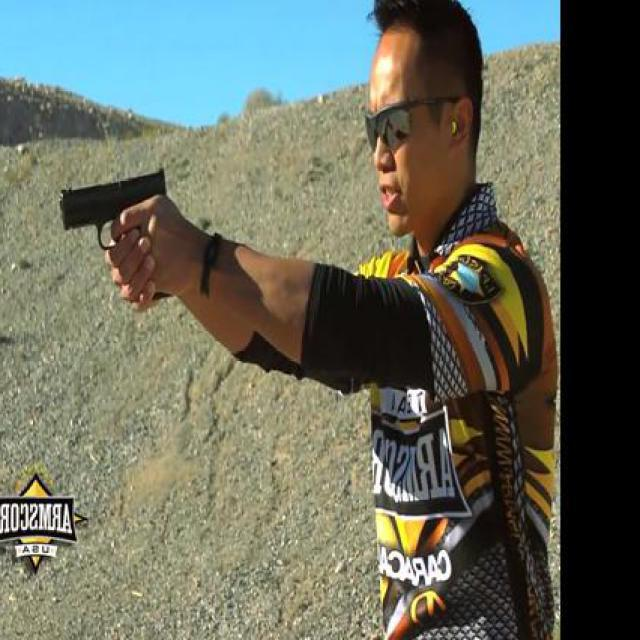Gun: (59, 165, 174, 308)
